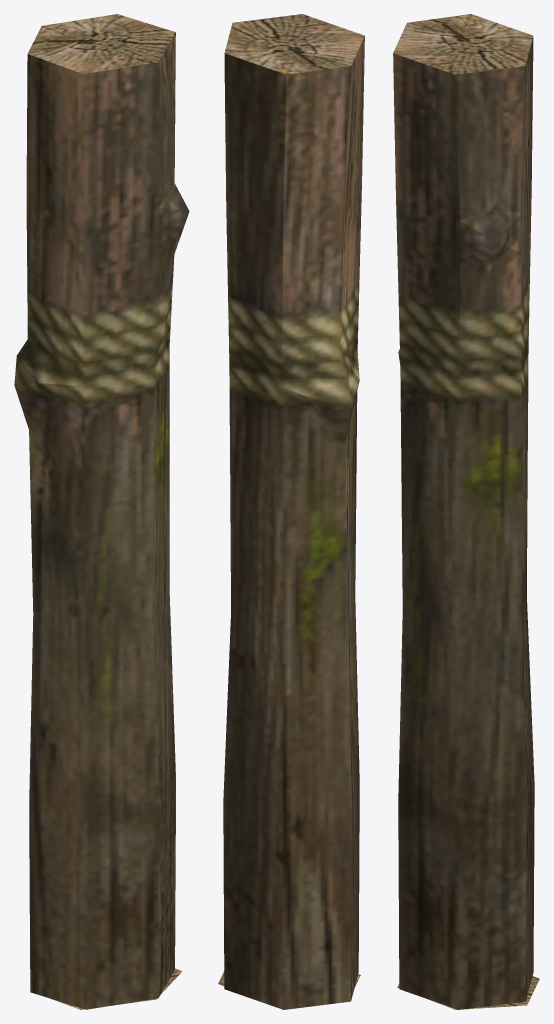
The model's file is bg_anh_mirrorv_logbridge02_c_sm_out.FBX.
The picture shows the model from 3 angles, left to right: view 1: azimuth 30°, elevation 25°; view 2: azimuth 150°, elevation 25°; view 3: azimuth 330°, elevation 25°; orthographic projection.
Parts seen in each view (by area): view 1: bg_anh_mirrorv_logbridge02_c_sm_out; view 2: bg_anh_mirrorv_logbridge02_c_sm_out; view 3: bg_anh_mirrorv_logbridge02_c_sm_out.
Part boxes in pixels (x1,y1,x2,y2): bg_anh_mirrorv_logbridge02_c_sm_out: (14,14,189,1009); bg_anh_mirrorv_logbridge02_c_sm_out: (218,14,364,1009); bg_anh_mirrorv_logbridge02_c_sm_out: (393,14,539,1009).
Size of the model in its own units: 29.34 by 183 by 23.44.
